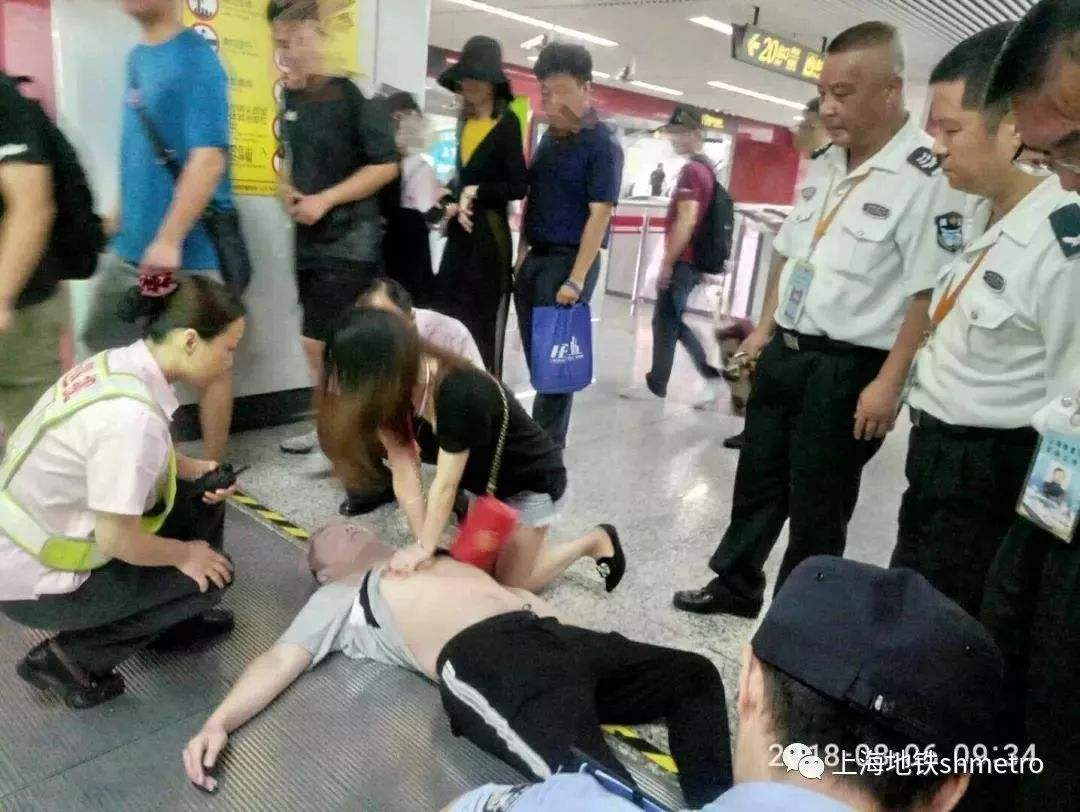10+: (5, 3, 1080, 799)
down: (175, 514, 745, 794)
